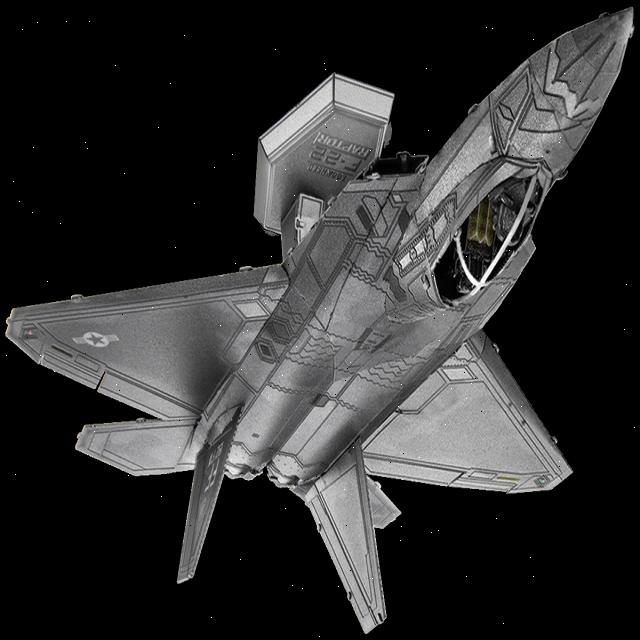F22: (0, 0, 631, 634)
